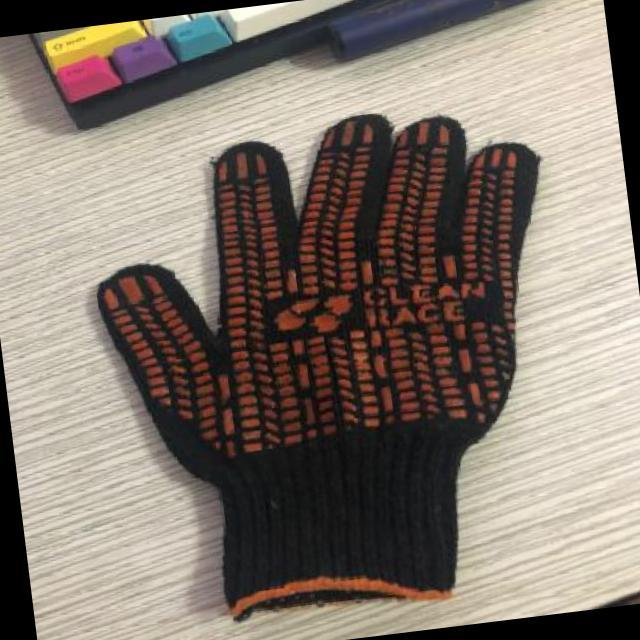glove: (99, 113, 543, 627)
